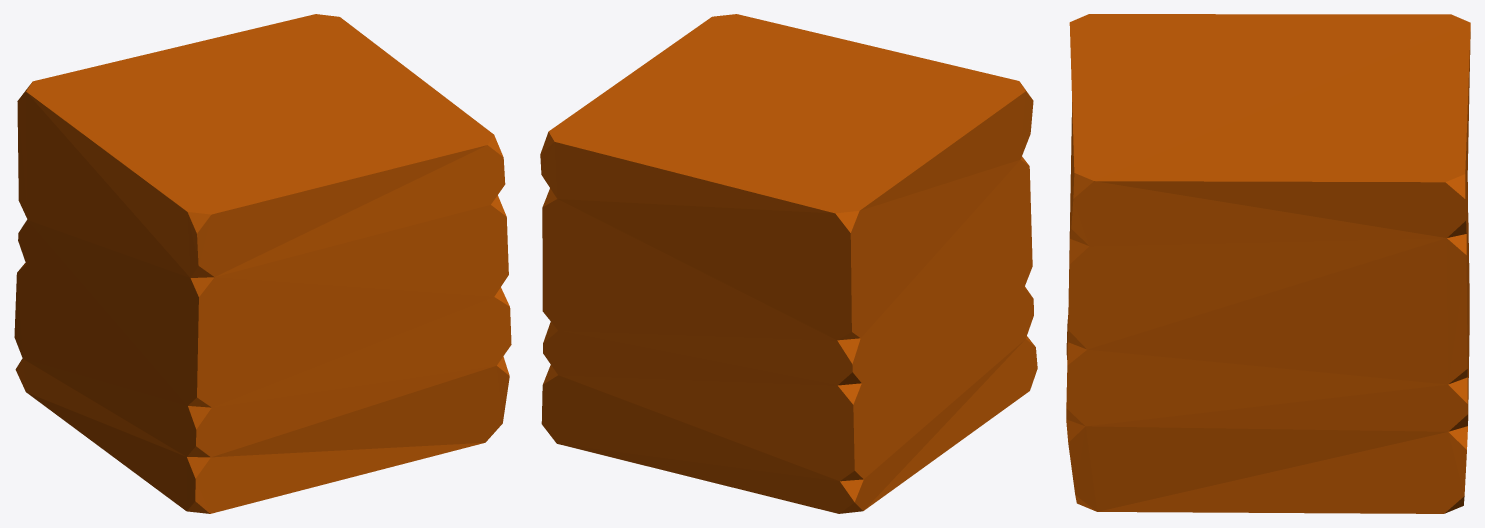
The model's file is WoodConnector.fbx.
The picture shows the model from 3 angles, left to right: view 1: azimuth 30°, elevation 25°; view 2: azimuth 150°, elevation 25°; view 3: azimuth 270°, elevation 25°; orthographic projection. The views are drawn at different scales.
Parts seen in each view (by area): view 1: WoodConnector; view 2: WoodConnector; view 3: WoodConnector.
Part boxes in pixels (box(x1,y1,x2,y2)): WoodConnector: box(14, 14, 511, 513); WoodConnector: box(540, 14, 1037, 513); WoodConnector: box(1066, 14, 1470, 513).
Bounding box in the file's own units: 238 × 215 × 238.
